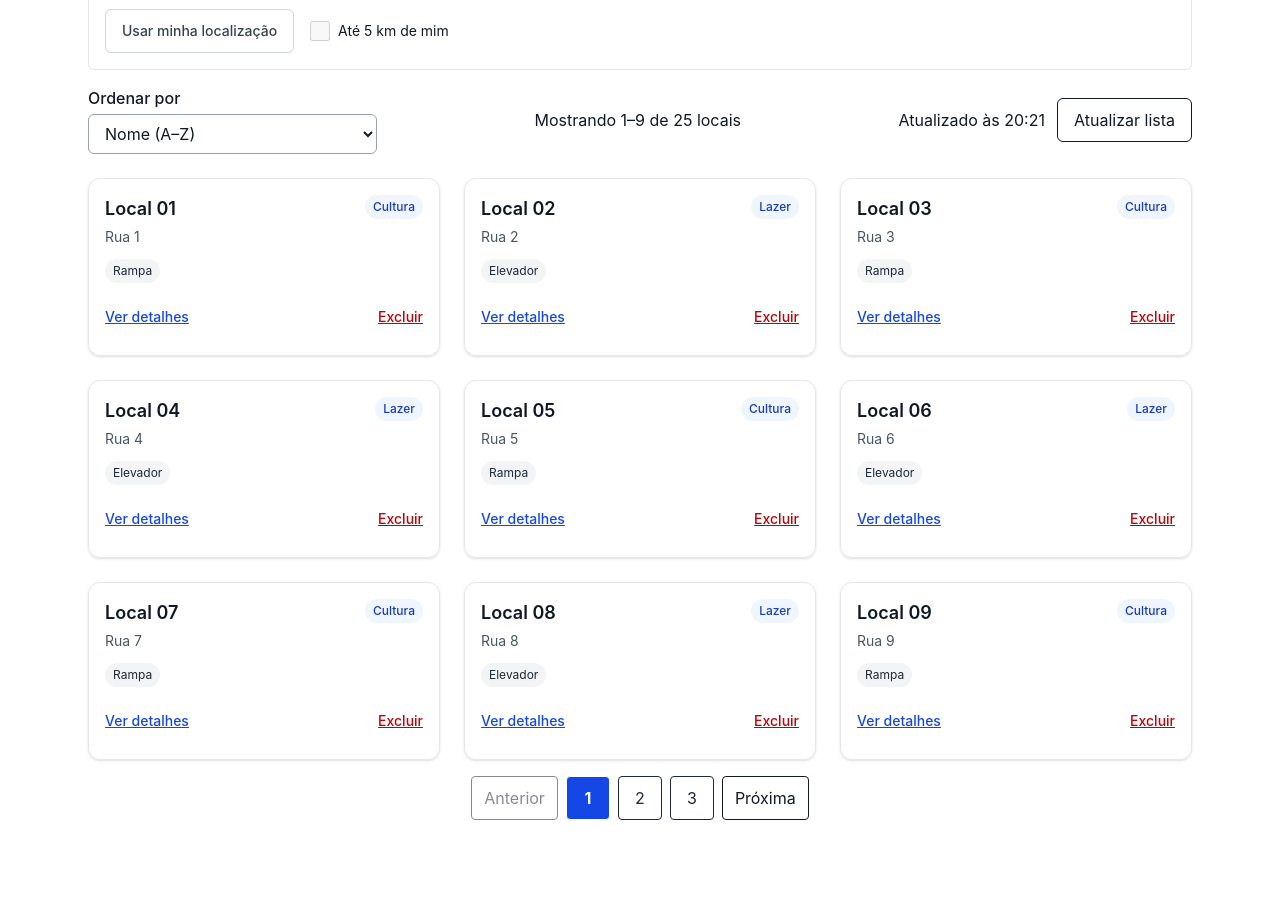
Scenario: Paginação integrada à listagem › divide 25 locais em 9, 9 e 7 e anuncia a página atual e os limites
(page scrolled)
Expected: the heading "Local 01" is shown, [105,195,176,223]
Expected: the number of buttons "1" is 3, [566,776,610,820]; [618,776,662,820]; [670,776,714,820]
Click the button "Próxima". click: (765, 798)
box: [722,776,809,820]
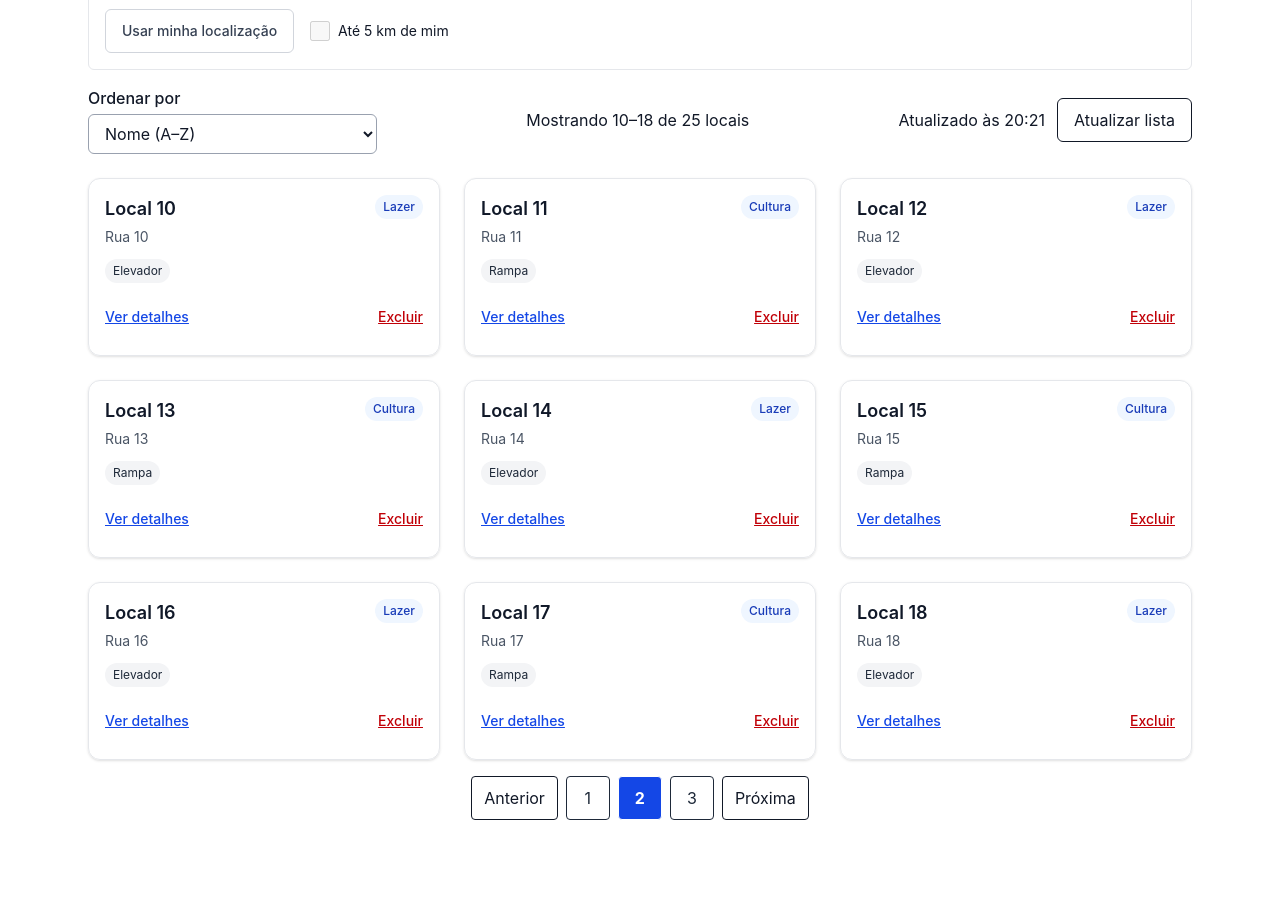
Result: the text "Mostrando 10–18 de 25 locais" is shown at [526,108,749,132]
Click the button named "Página 3". click: (692, 798)
box: [670,776,714,820]
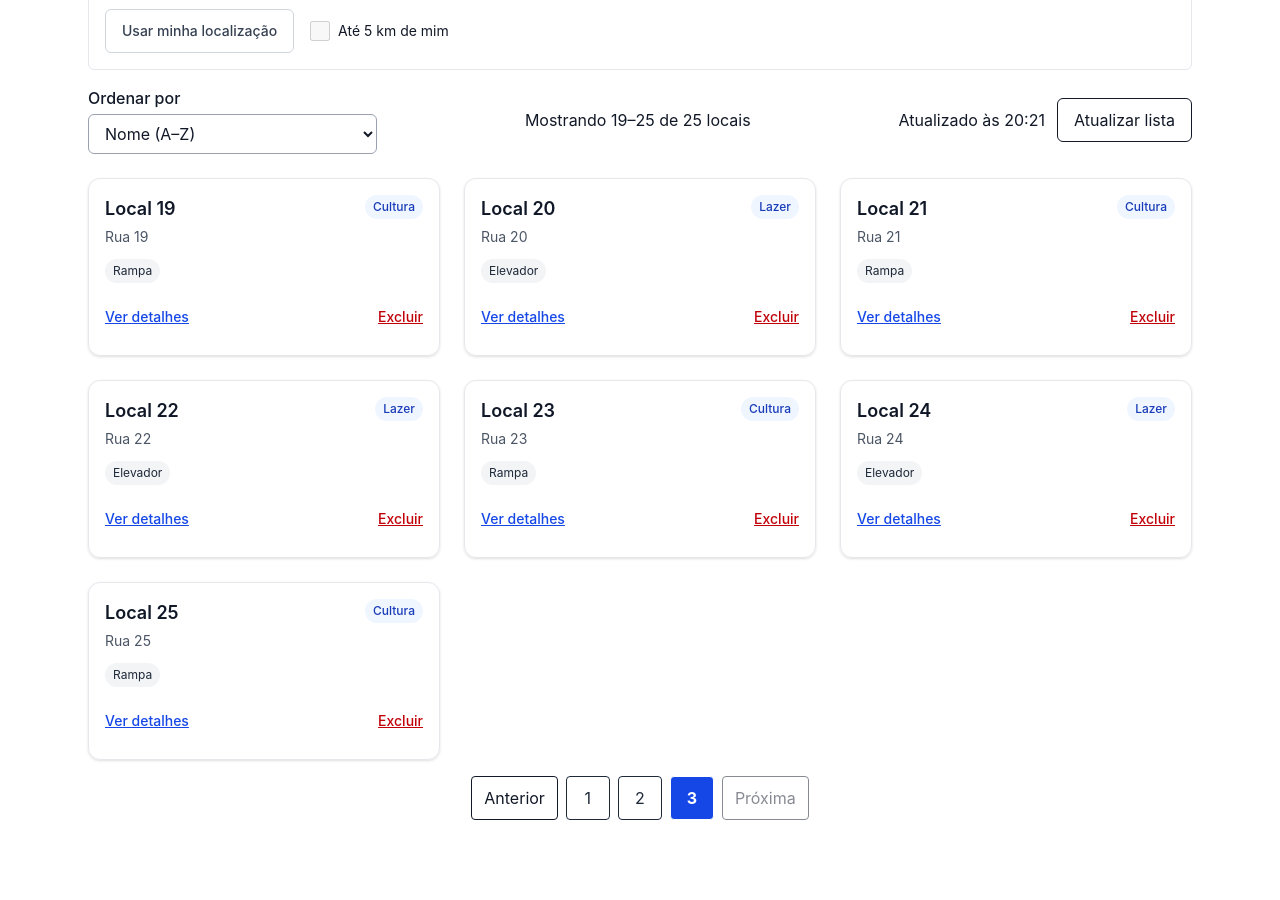
Result: the text "Mostrando 19–25 de 25 locais" is shown at [525,108,751,132]
Result: the button "Próxima" is disabled at [722,776,809,820]
